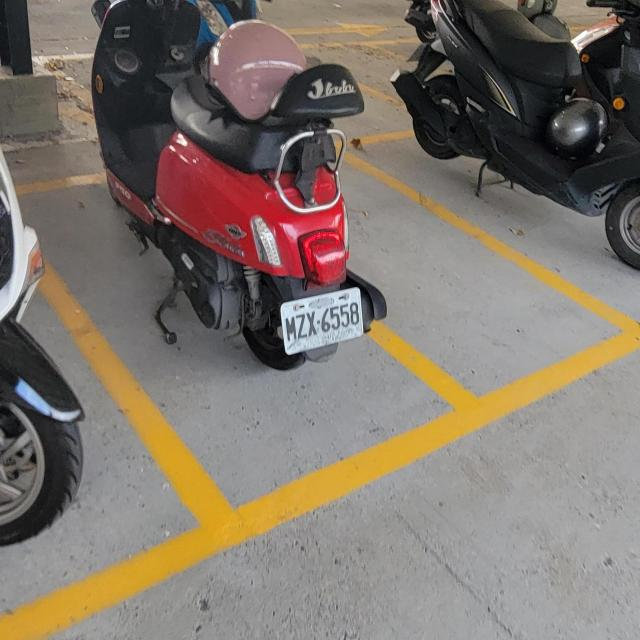W: (278, 286, 365, 354)
